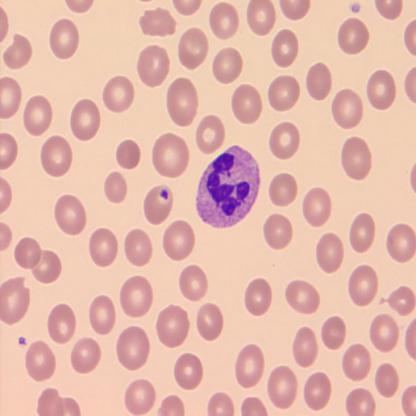Segmented neutrophil: (193, 141, 262, 231)
